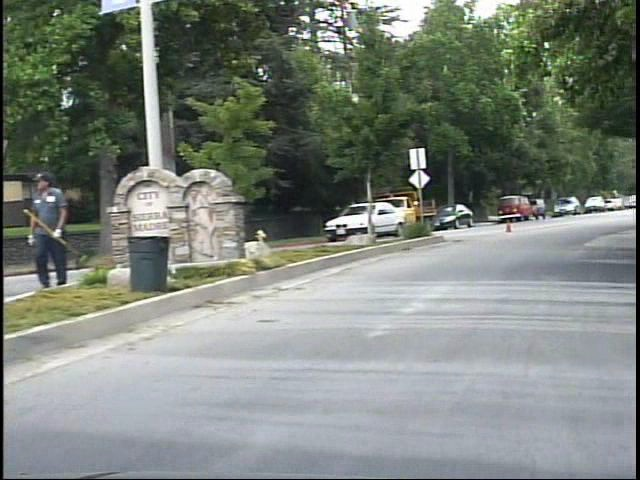person: (31, 166, 85, 294)
